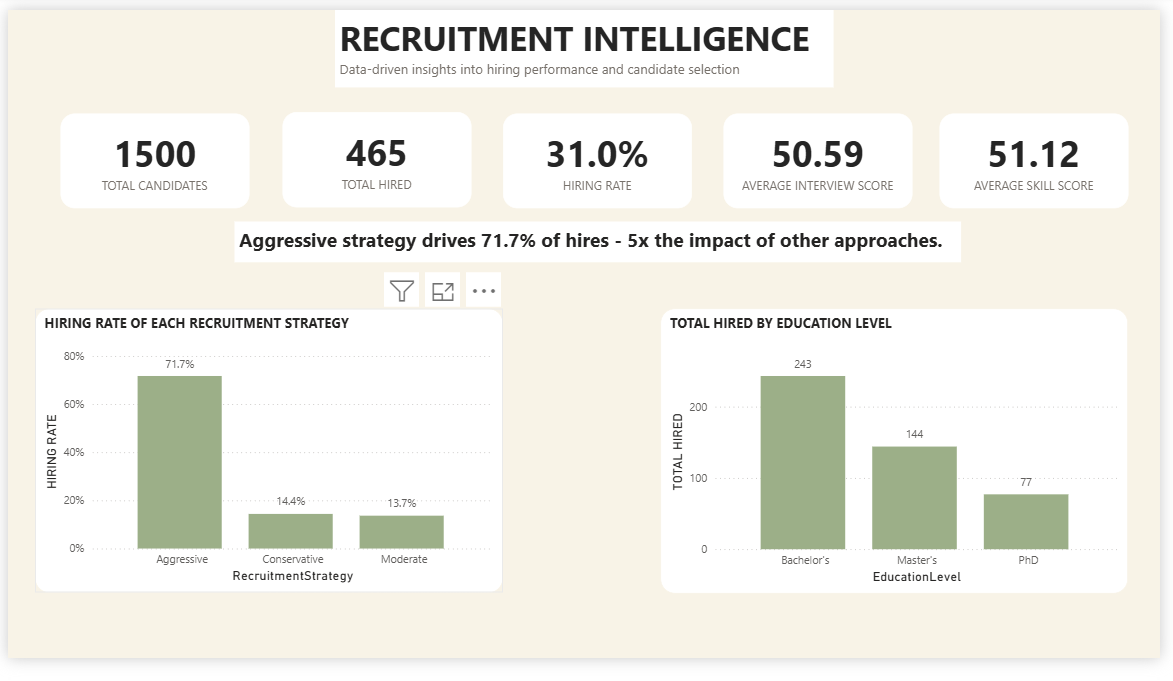

This screenshot's page, from the dashboard's own definition file:
{"tool":"powerbi","page":{"name":"Executive Overview","canvas":[1280,720],"ordinal":0},"visuals":[{"type":"textbox","box":[363,0,554,86.3],"z":0},{"type":"card","fields":{"Values":["Recruitment Data.Total Candidates"]},"box":[57.5,115.1,210,105],"z":1000},{"type":"card","fields":{"Values":["Recruitment Data.Total Hired"]},"box":[304.4,113.6,210,105.7],"z":2000},{"type":"card","fields":{"Values":["Recruitment Data.Hiring Rate"]},"box":[549.7,115.1,210,105],"z":3000},{"type":"card","fields":{"Values":["Recruitment Data.Average Interview Score"]},"box":[795,115.1,210,105],"z":4000},{"type":"card","fields":{"Values":["Recruitment Data.Average Skill Score"]},"box":[1034.2,115.1,210,105],"z":5000},{"type":"clusteredColumnChart","title":"HIRING RATE OF EACH RECRUITMENT STRATEGY","fields":{"Category":["Recruitment Data.RecruitmentStrategy"],"Y":["Recruitment Data.HIRING RATE"]},"box":[30,331.4,520,315.7],"z":6000},{"type":"clusteredColumnChart","title":"TOTAL HIRED BY EDUCATION LEVEL","fields":{"Category":["Recruitment Data.EducationLevel"],"Y":["Recruitment Data.TOTAL HIRED"]},"box":[725.3,331.6,519.4,316.5],"z":7000},{"type":"textbox","box":[251.4,234.7,807.1,45.4],"z":7001}]}

Visuals, with their boxes on the page's 1280x720 design canvas (x1, y1, x2, y2). These are canvas units, not pixel positions in the 1173x681 screenshot, which may show the page scaled, cropped or inside an application window:
textbox: [363,0,917,86]
card - Recruitment Data.Total Candidates: [58,115,268,220]
card - Recruitment Data.Total Hired: [304,114,514,219]
card - Recruitment Data.Hiring Rate: [550,115,760,220]
card - Recruitment Data.Average Interview Score: [795,115,1005,220]
card - Recruitment Data.Average Skill Score: [1034,115,1244,220]
"HIRING RATE OF EACH RECRUITMENT STRATEGY" clusteredColumnChart: [30,331,550,647]
"TOTAL HIRED BY EDUCATION LEVEL" clusteredColumnChart: [725,332,1245,648]
textbox: [251,235,1058,280]
